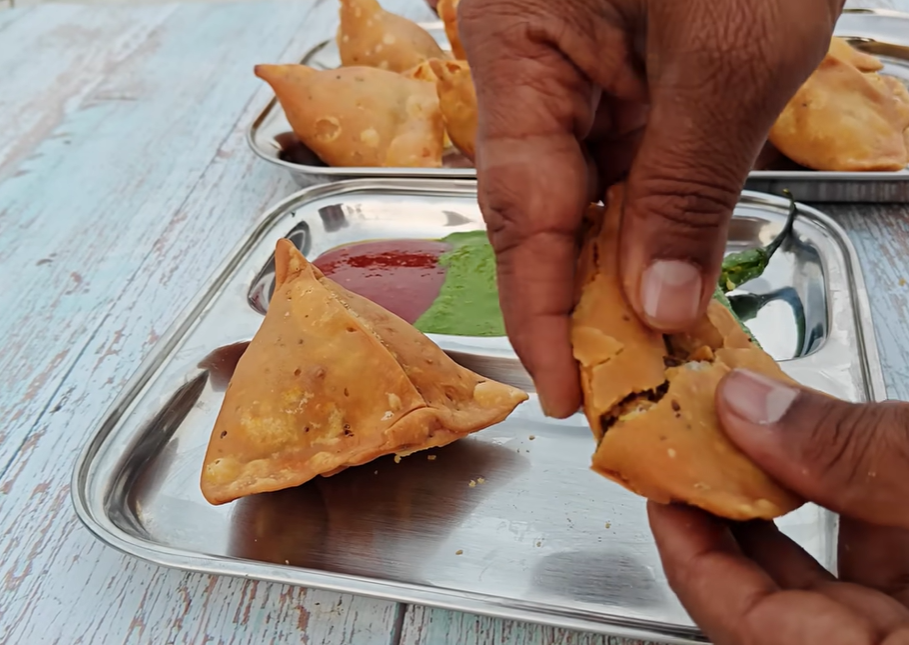samosa: (576, 166, 823, 519), (194, 230, 516, 494), (246, 56, 459, 177), (757, 39, 908, 189), (334, 1, 476, 146)
